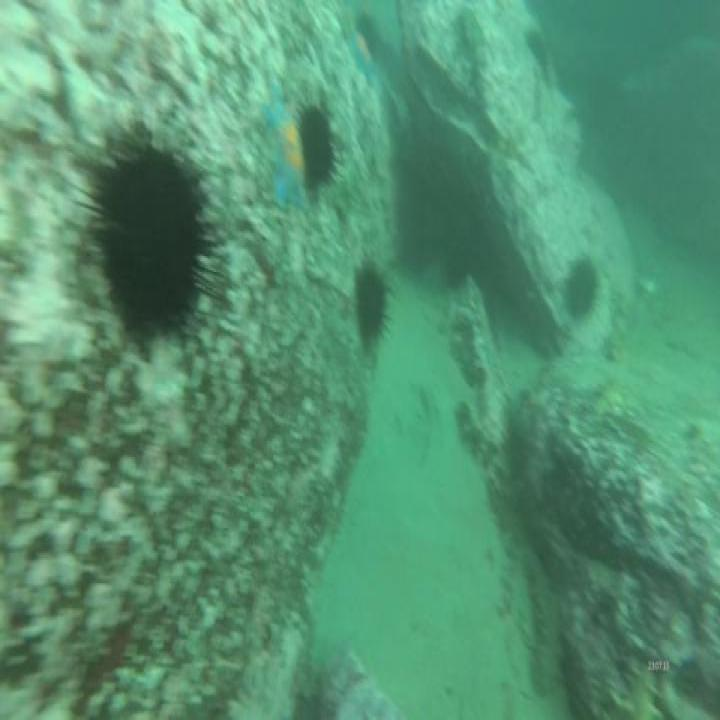echinus: (91, 124, 215, 352), (351, 256, 390, 354), (299, 98, 337, 194), (561, 249, 601, 325)
starfish: (261, 84, 312, 209), (347, 29, 380, 94)
